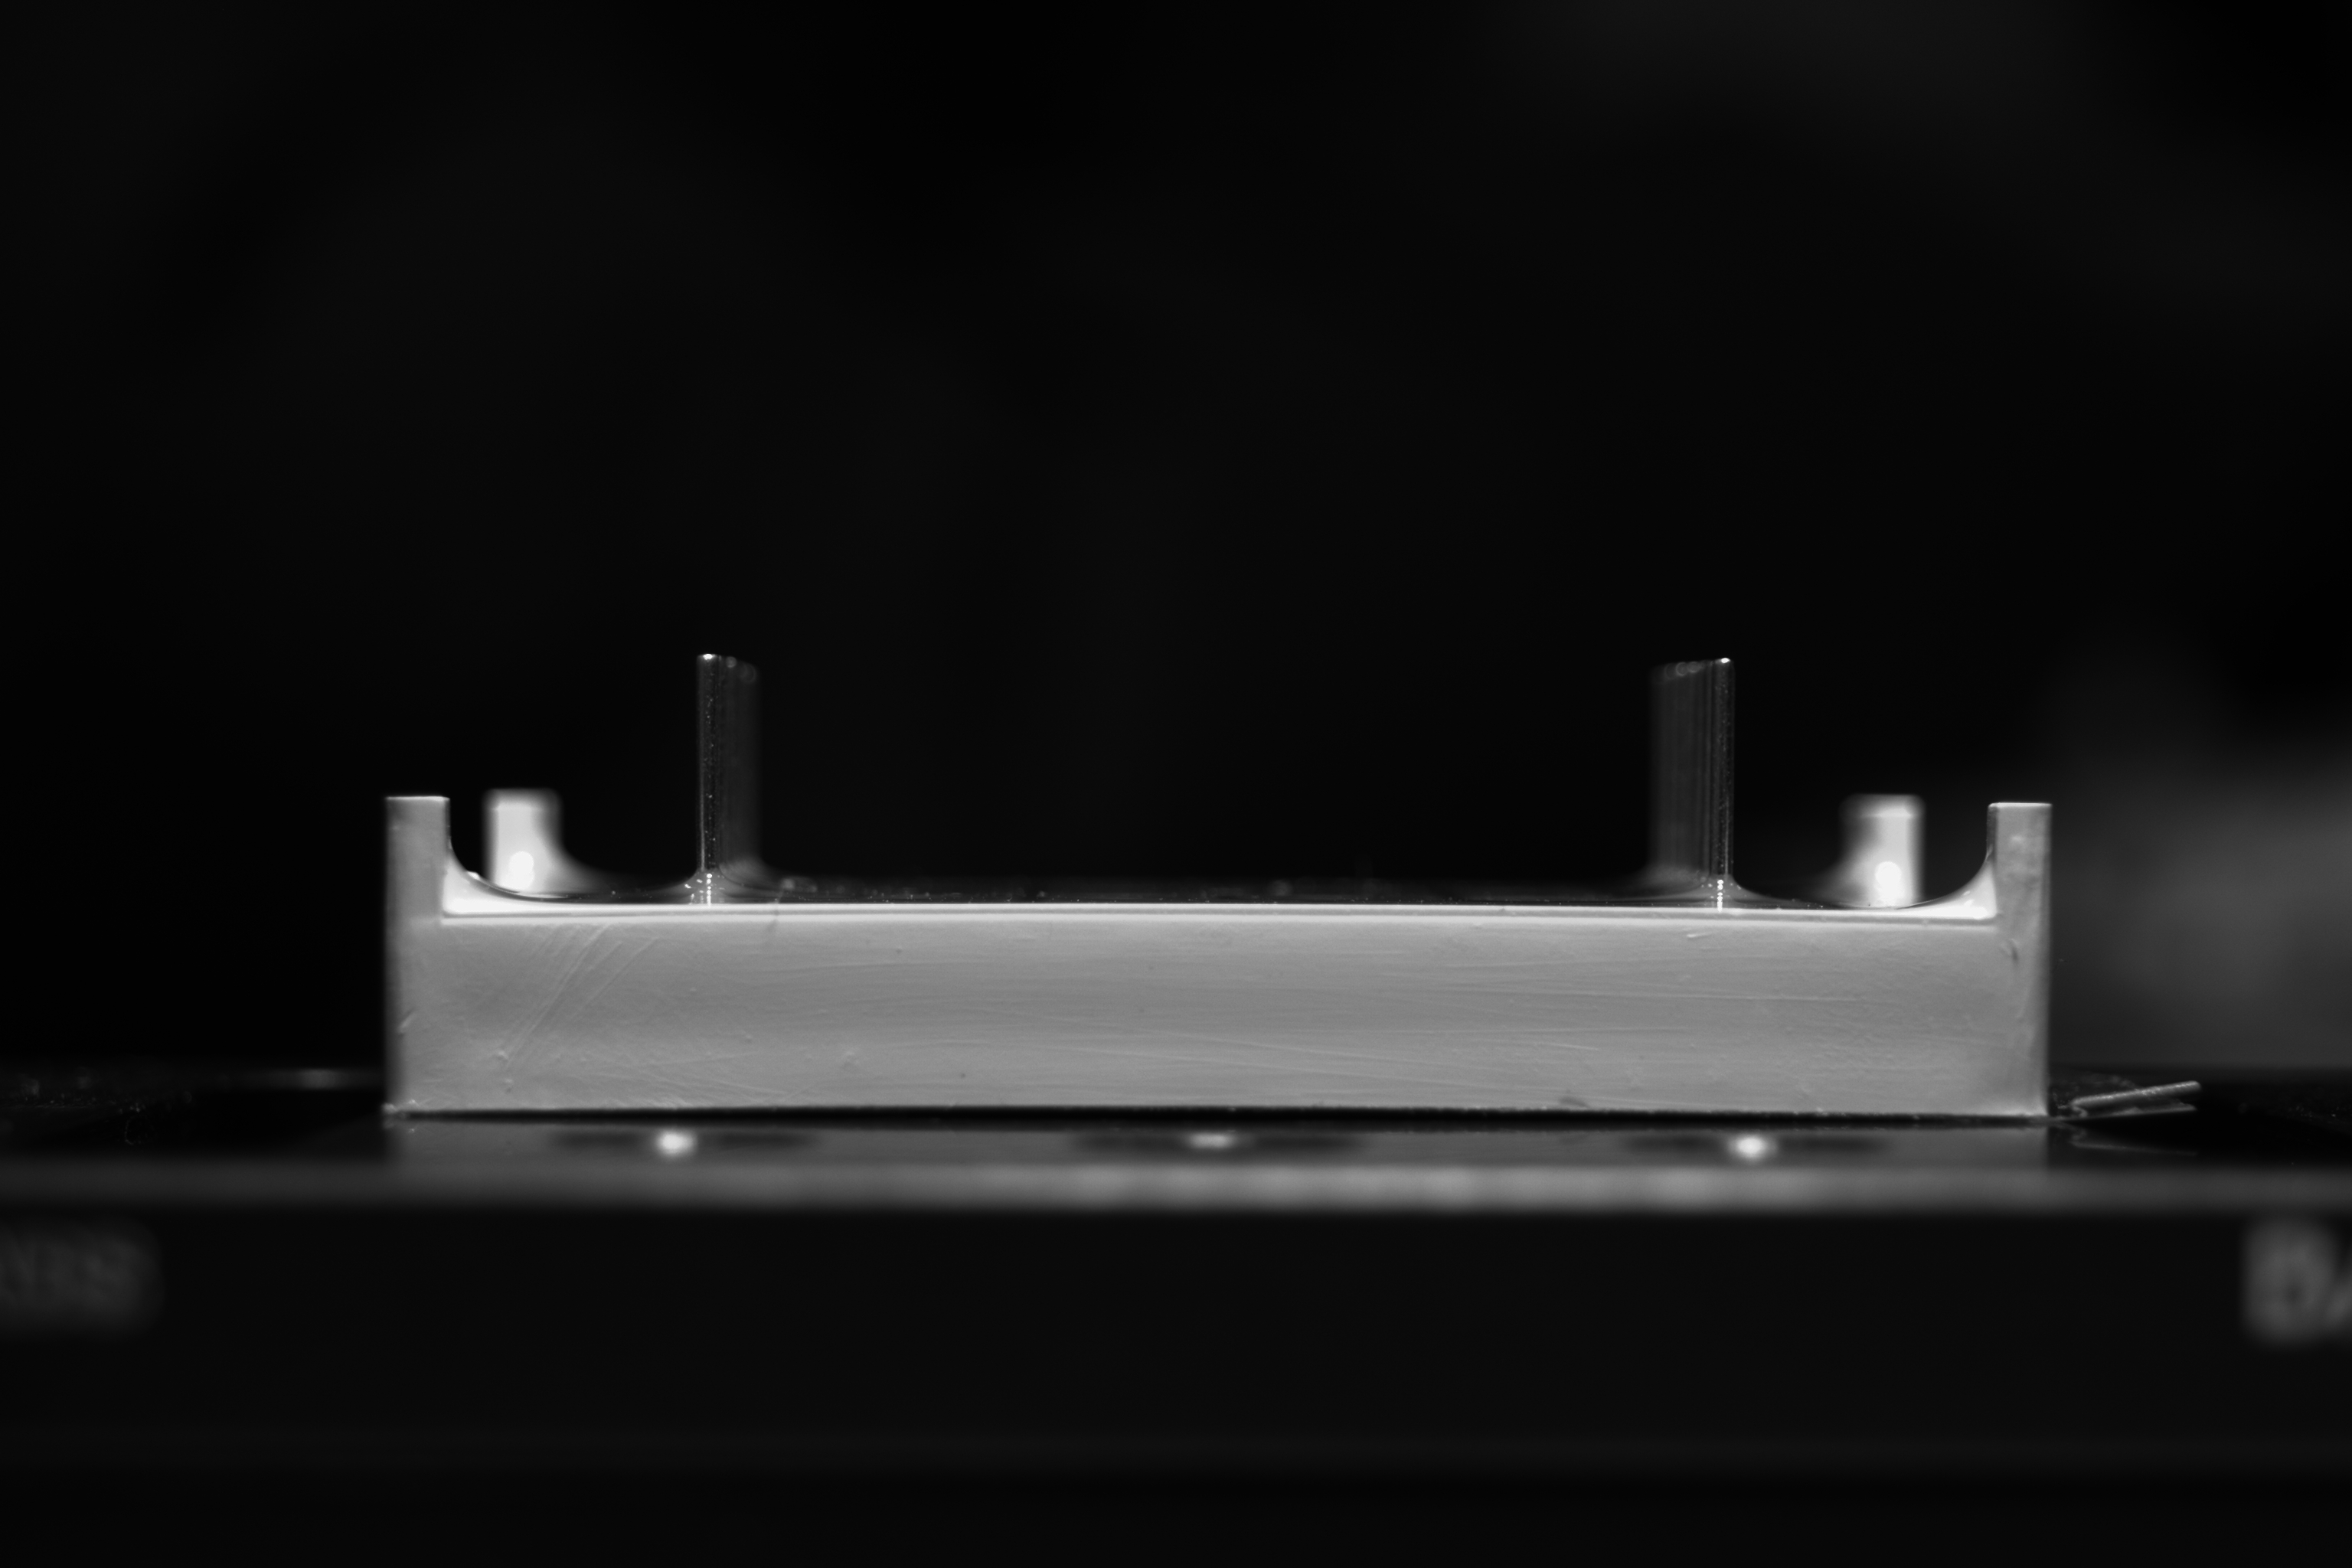Component: (385, 649, 2065, 1127)
